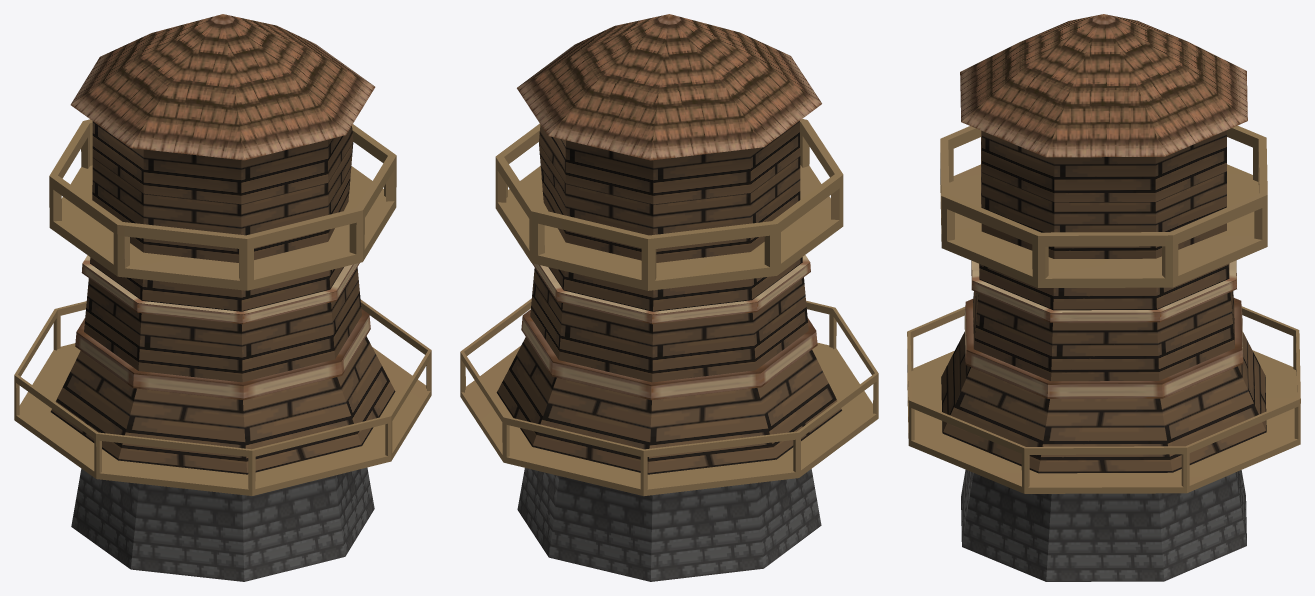
The model's file is windmill.fbx.
The picture shows the model from 3 angles, left to right: view 1: azimuth 30°, elevation 25°; view 2: azimuth 150°, elevation 25°; view 3: azimuth 270°, elevation 25°; orthographic projection.
Visible parts, largest first — view 1: windmill; view 2: windmill; view 3: windmill.
Part boxes in pixels (box(x1,y1,x2,y2)): windmill: box(14, 14, 431, 581); windmill: box(460, 14, 878, 581); windmill: box(907, 14, 1300, 581).
Size of the model in its own units: 120 by 171 by 120.
